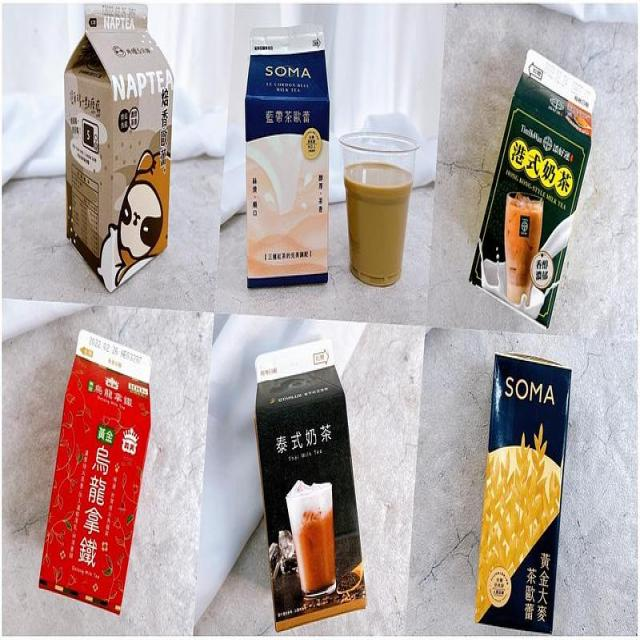non_white_jug: (35, 328, 170, 615), (58, 7, 188, 297), (477, 26, 595, 331), (252, 340, 370, 627), (233, 12, 333, 296)
